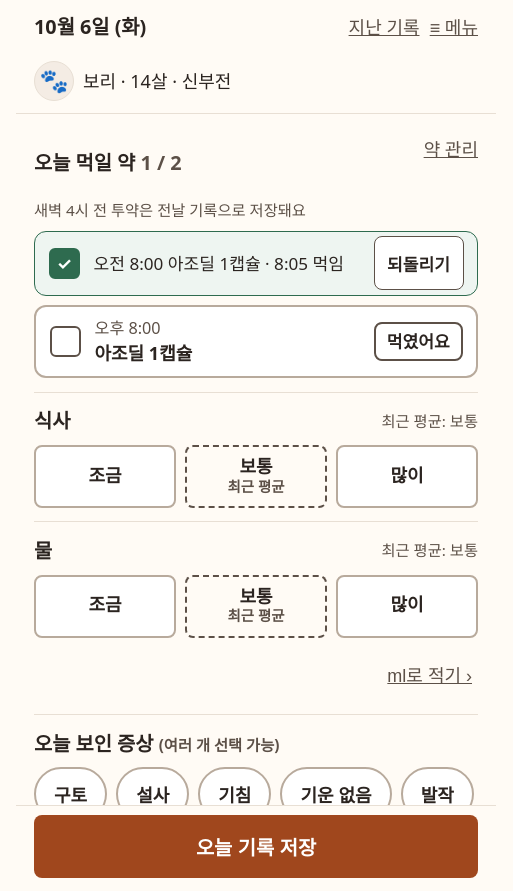
it: 오늘 화면 — 투약 체크 › 접힌 줄의 [되돌리기]를 누르면 DELETE 로 체크를 되돌리고, 결과와 [다시 체크]를 안내한다
The image size is (513, 891).
Expected: the text "오전 8:00 아조딜 1캡슐 · 8:05 먹임" is shown, [94,251,360,276]
Click the button "되돌리기" at (418, 263), box [374,236,464,290]
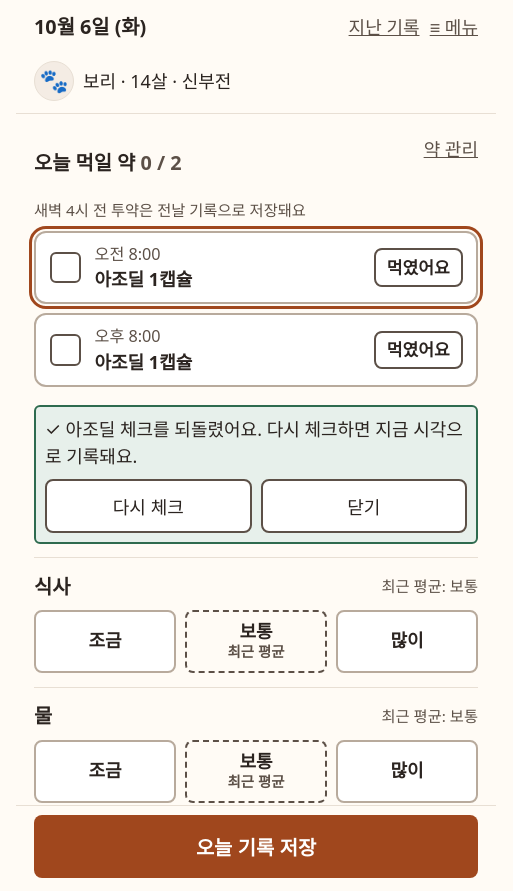
Expected: the text "✓ 아조딜 체크를 되돌렸어요. 다시 체크하면 지금 시각으로 기록돼요." is shown, [45,416,467,470]
Expected: the button "다시 체크" is shown, [45,478,252,532]
